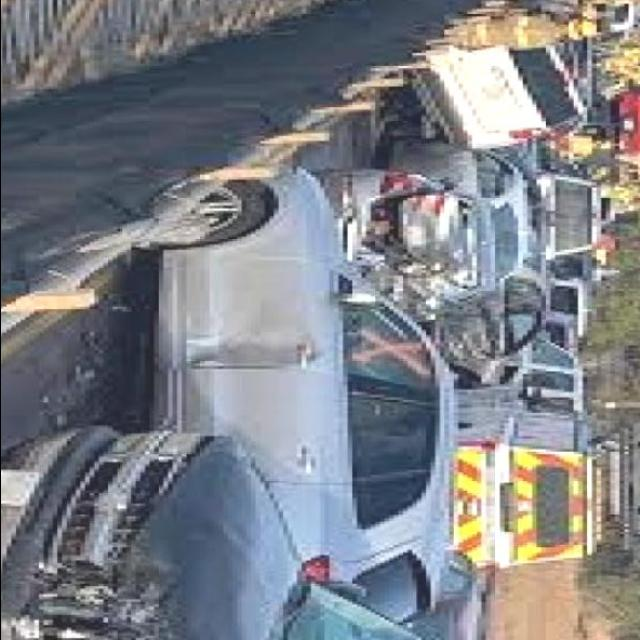accident: (313, 67, 575, 384), (0, 422, 255, 640)
